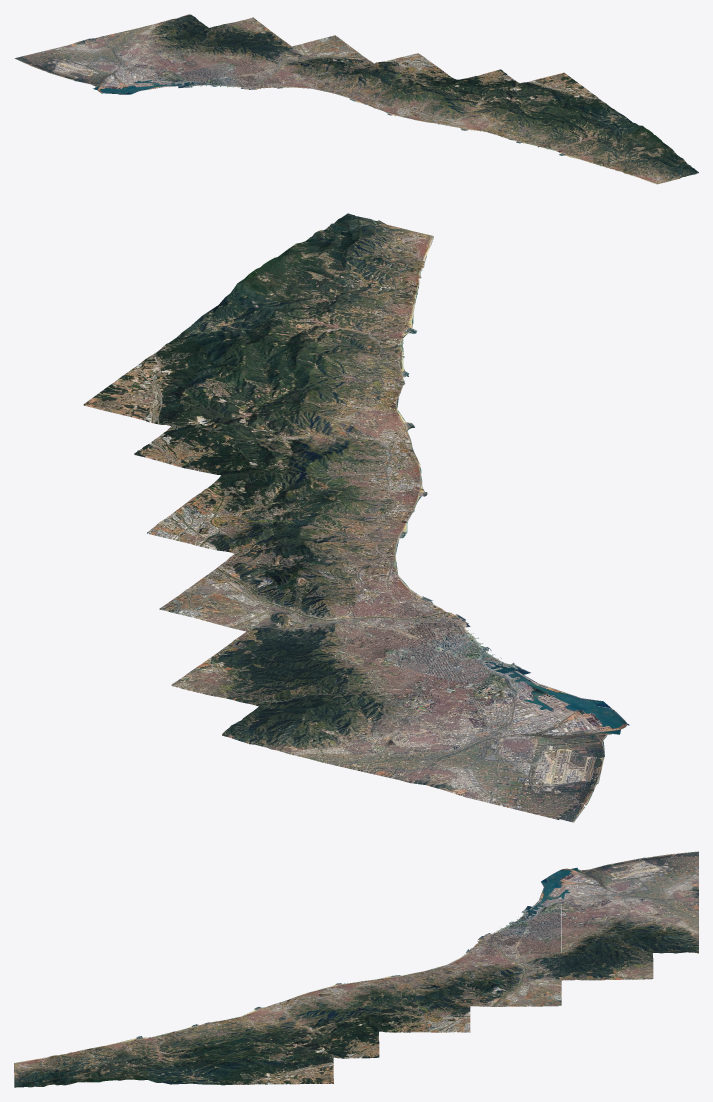
The model's file is CoastLine.glb.
3 renders of one model, top to bottom at view 1: azimuth 30°, elevation 25°; view 2: azimuth 150°, elevation 25°; view 3: azimuth 270°, elevation 25°, orthographic. The views are drawn at different scales.
Parts seen in each view (by area): view 1: 3042624371526_0, 3042624371436_0, 3042624352624_0, 3042624370505_0, 3042624371425_0, 3042624371437_0, 3042624371424_0, 3042624370516_0, 3042624343717_0, 3042624370534_0, 3042624371427_0, 3042624343714_0 (+32 smaller); view 2: 3042624343734_0, 3042624371436_0, 3042624343716_0, 3042624370525_0, 3042624370506_0, 3042624370535_0, 3042624343735_0, 3042624370504_0, 3042624343717_0, 3042624352636_0, 3042624370414_0, 3042624371437_0 (+32 smaller); view 3: 3042624352626_0, 3042624371426_0, 3042624370537_0, 3042624370417_0, 3042624343737_0, 3042624370414_0, 3042624370525_0, 3042624370536_0, 3042624370506_0, 3042624352604_0, 3042624352627_0, 3042624370516_0 (+32 smaller).
Boxes of the visible parts, x1=… form: 3042624371526_0: x1=636, y1=156, x2=698, y2=184; 3042624371436_0: x1=597, y1=125, x2=659, y2=155; 3042624352624_0: x1=184, y1=41, x2=247, y2=67; 3042624370505_0: x1=368, y1=90, x2=431, y2=115; 3042624371425_0: x1=534, y1=125, x2=596, y2=151; 3042624371437_0: x1=617, y1=139, x2=679, y2=168; 3042624371424_0: x1=514, y1=109, x2=577, y2=137; 3042624370516_0: x1=432, y1=94, x2=494, y2=120; 3042624343717_0: x1=121, y1=38, x2=183, y2=64; 3042624370534_0: x1=476, y1=83, x2=538, y2=107; 3042624371427_0: x1=578, y1=114, x2=640, y2=139; 3042624343714_0: x1=57, y1=36, x2=120, y2=61; 3042624343734_0: x1=222, y1=706, x2=348, y2=758; 3042624371436_0: x1=235, y1=259, x2=360, y2=314; 3042624343716_0: x1=310, y1=726, x2=436, y2=779; 3042624370525_0: x1=134, y1=425, x2=260, y2=475; 3042624370506_0: x1=185, y1=474, x2=311, y2=523; 3042624370535_0: x1=210, y1=366, x2=336, y2=417; 3042624343735_0: x1=260, y1=676, x2=386, y2=726; 3042624370504_0: x1=274, y1=494, x2=400, y2=545; 3042624343717_0: x1=349, y1=699, x2=474, y2=751; 3042624352636_0: x1=287, y1=572, x2=411, y2=624; 3042624370414_0: x1=198, y1=553, x2=323, y2=602; 3042624371437_0: x1=273, y1=237, x2=398, y2=289; 3042624352626_0: x1=561, y1=950, x2=607, y2=980; 3042624371426_0: x1=196, y1=1055, x2=242, y2=1085; 3042624370537_0: x1=242, y1=1054, x2=288, y2=1084; 3042624370417_0: x1=424, y1=1002, x2=470, y2=1032; 3042624343737_0: x1=607, y1=950, x2=653, y2=979; 3042624370414_0: x1=470, y1=977, x2=515, y2=1006; 3042624370525_0: x1=333, y1=1029, x2=379, y2=1058; 3042624370536_0: x1=288, y1=1055, x2=333, y2=1084; 3042624370506_0: x1=378, y1=1004, x2=424, y2=1032; 3042624352604_0: x1=561, y1=876, x2=607, y2=902; 3042624352627_0: x1=515, y1=952, x2=561, y2=980; 3042624370516_0: x1=287, y1=1004, x2=333, y2=1032.
Bounding box in the file's own units: 44120 × 947 × 54812.
Materials: 183 (183 with a texture image).
